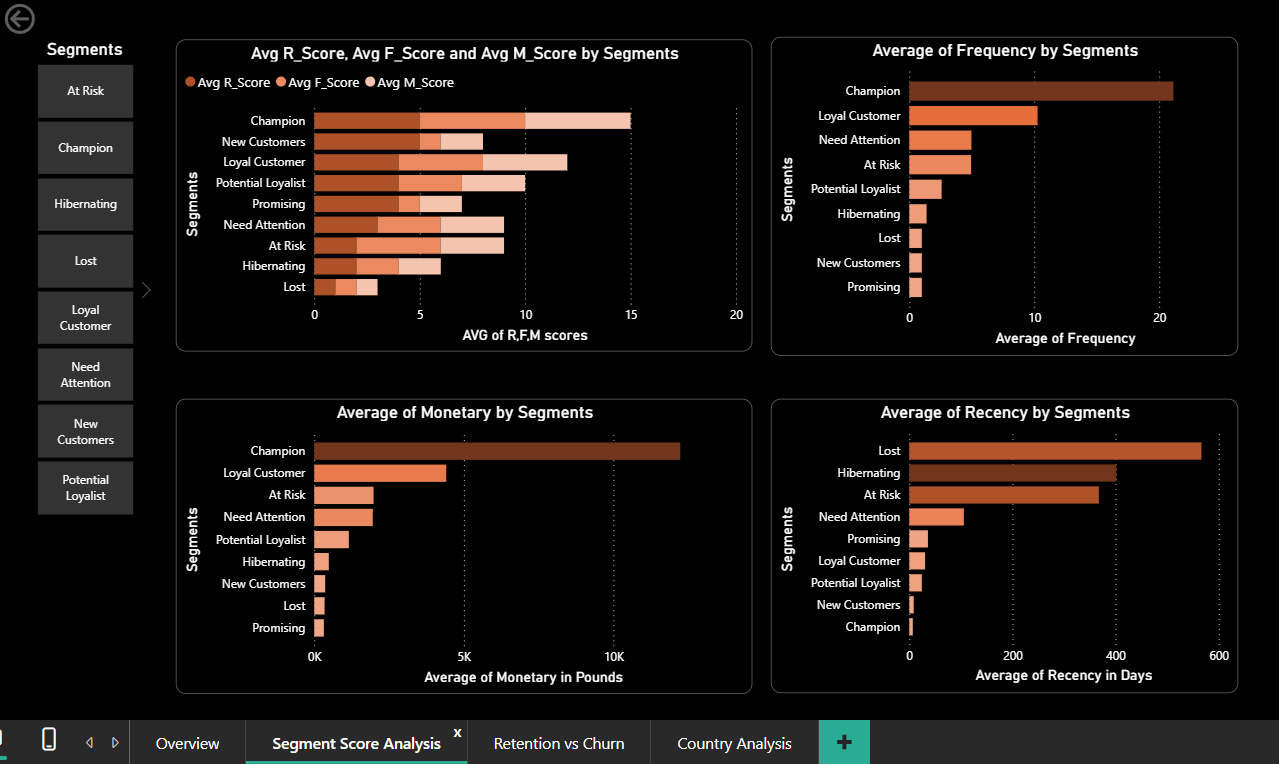

The page's visual inventory and layout, read from the dashboard file:
{"tool":"powerbi","page":{"name":"Segment Score Analysis","canvas":[1280,720],"ordinal":1},"visuals":[{"type":"actionButton","box":[0,0,100,40],"z":0},{"type":"barChart","fields":{"Category":["Segmented Table.Segments"],"Y":["Avg(Segmented Table.Recency)"]},"box":[770,399.3,467,294],"z":1000},{"type":"barChart","fields":{"Category":["Segmented Table.Segments"],"Y":["Avg(Segmented Table.Monetary)"]},"box":[175.6,399.3,576.2,295.3],"z":2000},{"type":"barChart","fields":{"Category":["Segmented Table.Segments"],"Y":["Avg(Segmented Table.Frequency)"]},"box":[770,37.7,467,318.7],"z":3000},{"type":"barChart","title":"Avg R_Score, Avg F_Score and Avg M_Score by Segments","fields":{"Category":["Segment Analysis.Segments"],"Y":["Sum(Segment Analysis.Avg R_Score)","Sum(Segment Analysis.Avg F_Score)","Sum(Segment Analysis.Avg M_Score)"]},"box":[175.6,40.3,576.2,312.2],"z":4000},{"type":"slicer","title":"Segments","fields":{"Values":["Segment Analysis.Segments"]},"box":[11.7,40.3,145.7,481.3],"z":5000}]}

Visuals, with their boxes on the page's 1280x720 design canvas (x1, y1, x2, y2). These are canvas units, not pixel positions in the 1279x764 screenshot, which may show the page scaled, cropped or inside an application window:
actionButton: x1=0 y1=0 x2=100 y2=40
barChart - Segmented Table.Segments x Avg(Segmented Table.Recency): x1=770 y1=399 x2=1237 y2=693
barChart - Segmented Table.Segments x Avg(Segmented Table.Monetary): x1=176 y1=399 x2=752 y2=695
barChart - Segmented Table.Segments x Avg(Segmented Table.Frequency): x1=770 y1=38 x2=1237 y2=356
"Avg R_Score, Avg F_Score and Avg M_Score by Segments" barChart: x1=176 y1=40 x2=752 y2=352
"Segments" slicer: x1=12 y1=40 x2=157 y2=522
